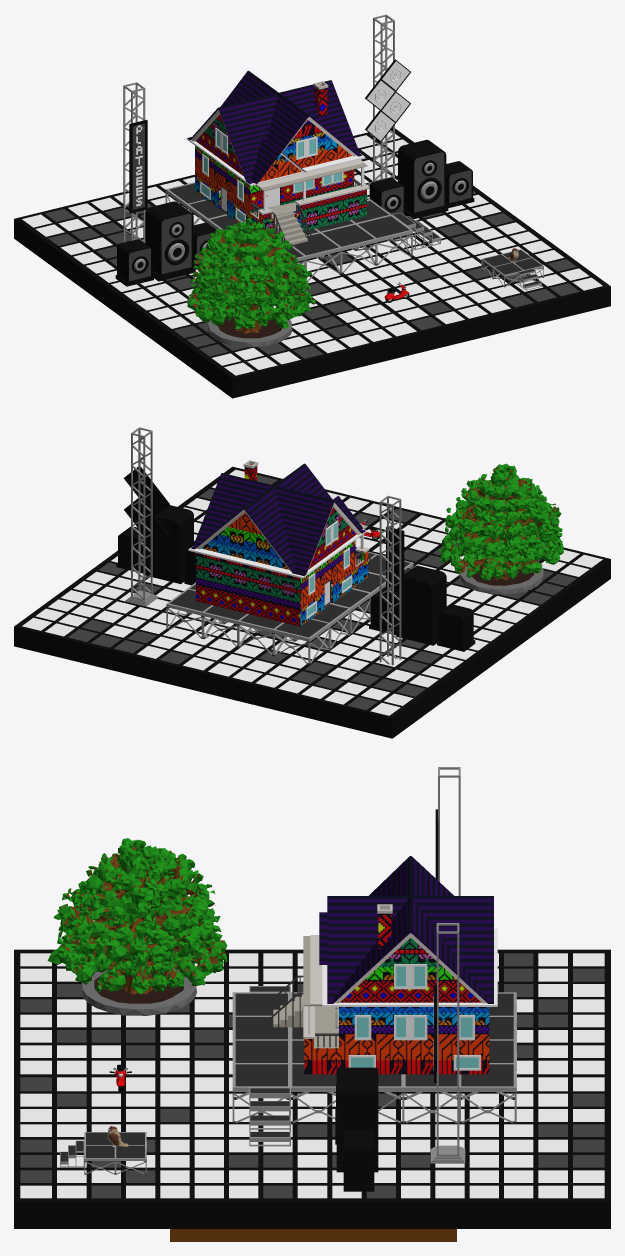
3 views of the same model, one above another, from view 1: azimuth 30°, elevation 25°; view 2: azimuth 150°, elevation 25°; view 3: azimuth 270°, elevation 25° (orthographic). The views are drawn at different scales.
Parts seen in each view (by area): view 1: Cube.008, Cube.966, OBJRANDOM_CEIBA; view 2: Cube.008, Cube.966, OBJRANDOM_CEIBA; view 3: Cube.008, Cube.966, OBJRANDOM_CEIBA, UNDERGROUND_ART_PIECE_VAN_GOGH.
Part boxes in pixels (x1=…): Cube.008: x1=14, y1=14, x2=610, y2=398; Cube.966: x1=186, y1=70, x2=369, y2=244; OBJRANDOM_CEIBA: x1=187, y1=218, x2=315, y2=347; Cube.008: x1=14, y1=427, x2=610, y2=738; Cube.966: x1=188, y1=460, x2=370, y2=626; OBJRANDOM_CEIBA: x1=438, y1=463, x2=563, y2=594; Cube.008: x1=14, y1=767, x2=610, y2=1228; Cube.966: x1=271, y1=856, x2=497, y2=1074; OBJRANDOM_CEIBA: x1=47, y1=838, x2=227, y2=1015; UNDERGROUND_ART_PIECE_VAN_GOGH: x1=170, y1=1229, x2=456, y2=1241.
Size of the model in its own units: 4000 by 2098 by 4000.
43 materials, 6 textured.
